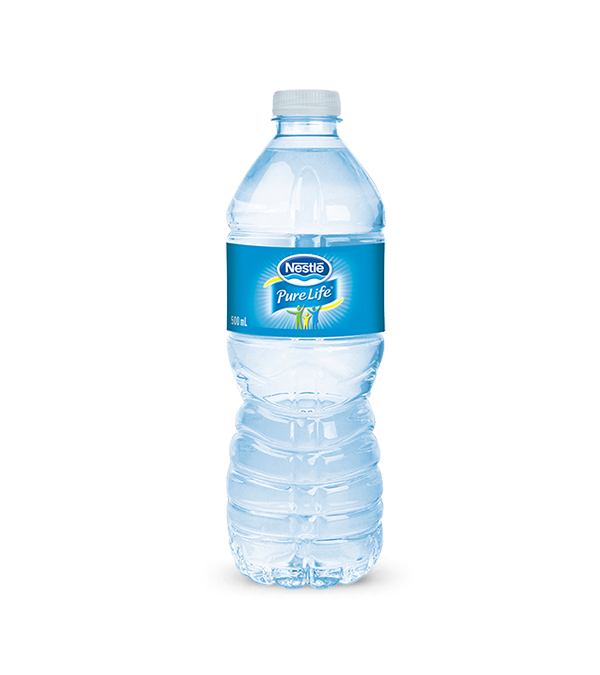Rec_Plastic: (211, 80, 396, 591)
